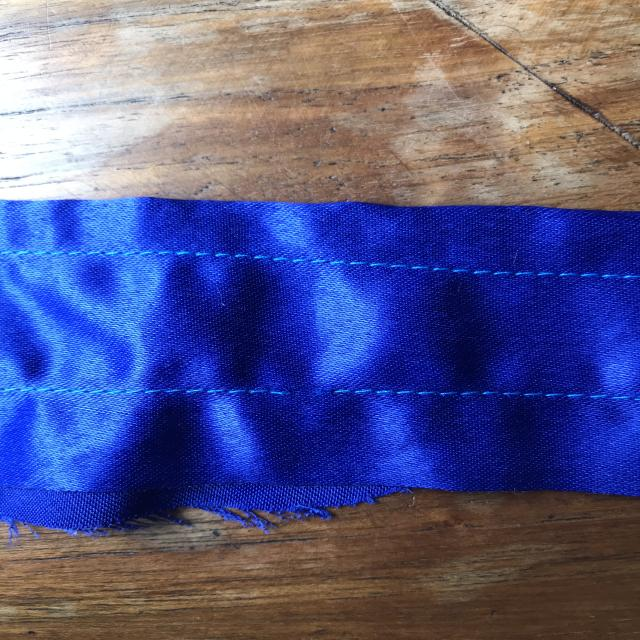broken: (262, 370, 368, 411)
good: (244, 231, 426, 290)
